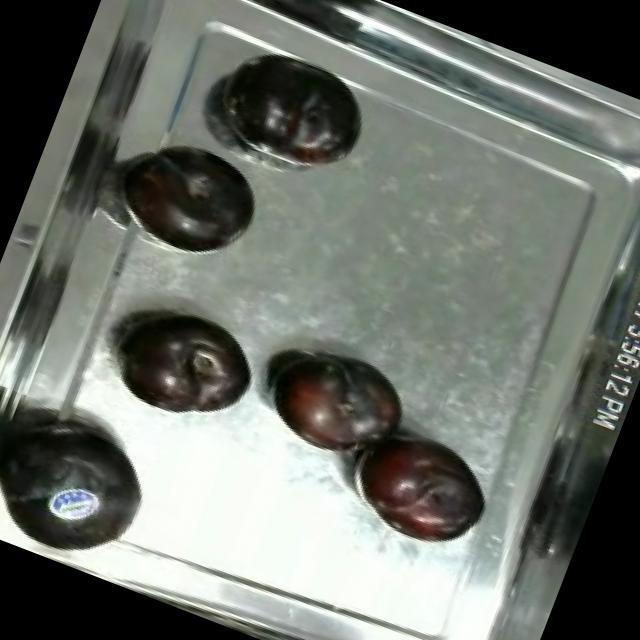Fruit: (0, 397, 168, 583), (206, 34, 386, 194), (100, 288, 274, 443), (334, 412, 506, 564), (248, 326, 422, 476), (106, 126, 277, 276)
